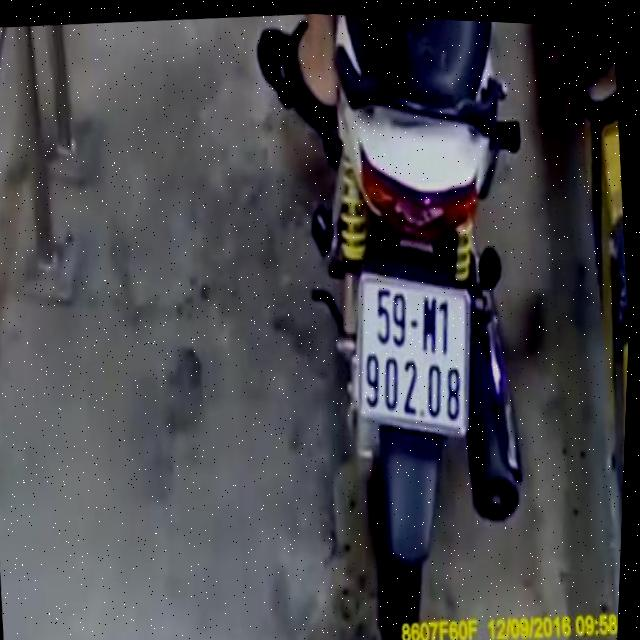motorcycle: (276, 13, 560, 640)
plate: (340, 262, 488, 452)
